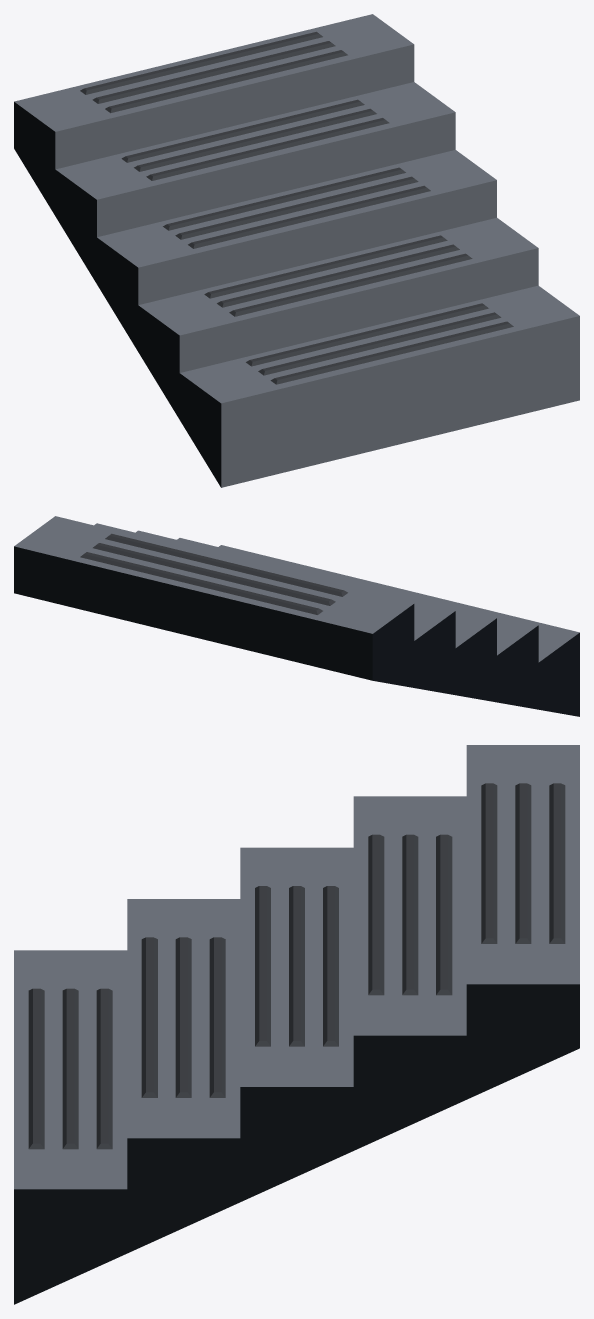
File: sm_Stairs_B_02.fbx
3 renders of one model, top to bottom at view 1: azimuth 30°, elevation 25°; view 2: azimuth 150°, elevation 25°; view 3: azimuth 270°, elevation 25°, orthographic. The views are drawn at different scales.
Parts seen in each view (by area): view 1: Stairs_B_02; view 2: Stairs_B_02; view 3: Stairs_B_02.
Boxes of the visible parts, x1,y1,x2,y2 form: Stairs_B_02: [14, 14, 579, 487]; Stairs_B_02: [14, 516, 579, 716]; Stairs_B_02: [14, 745, 579, 1304].
Size of the model in its own units: 200 by 126 by 200.
